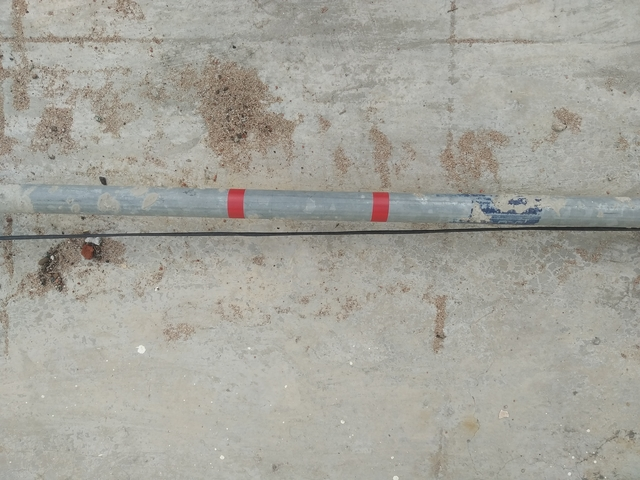rust: (367, 186, 394, 228), (224, 183, 248, 222)
